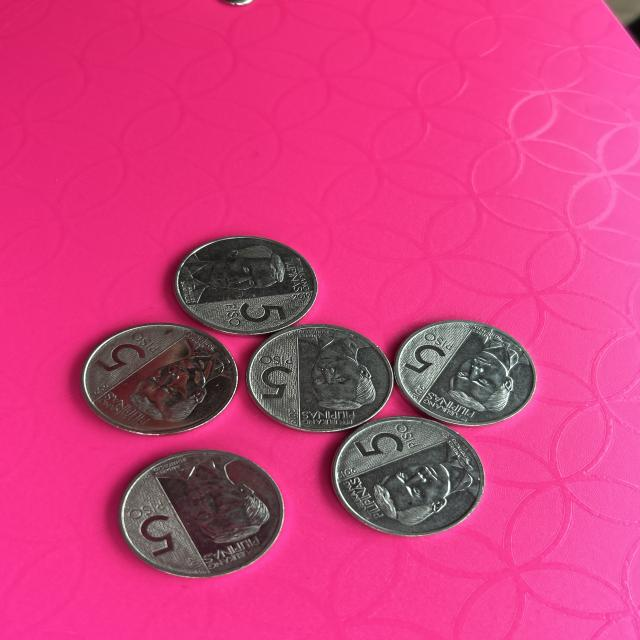5_New_Front: (126, 499, 184, 572), (99, 330, 161, 376), (352, 420, 425, 459), (402, 333, 452, 382), (256, 349, 300, 402), (218, 298, 284, 332)
